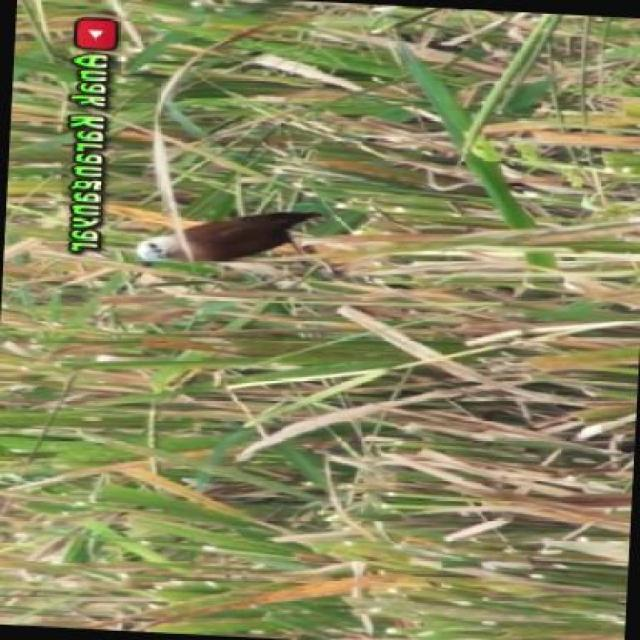Bird: (127, 217, 339, 270)
